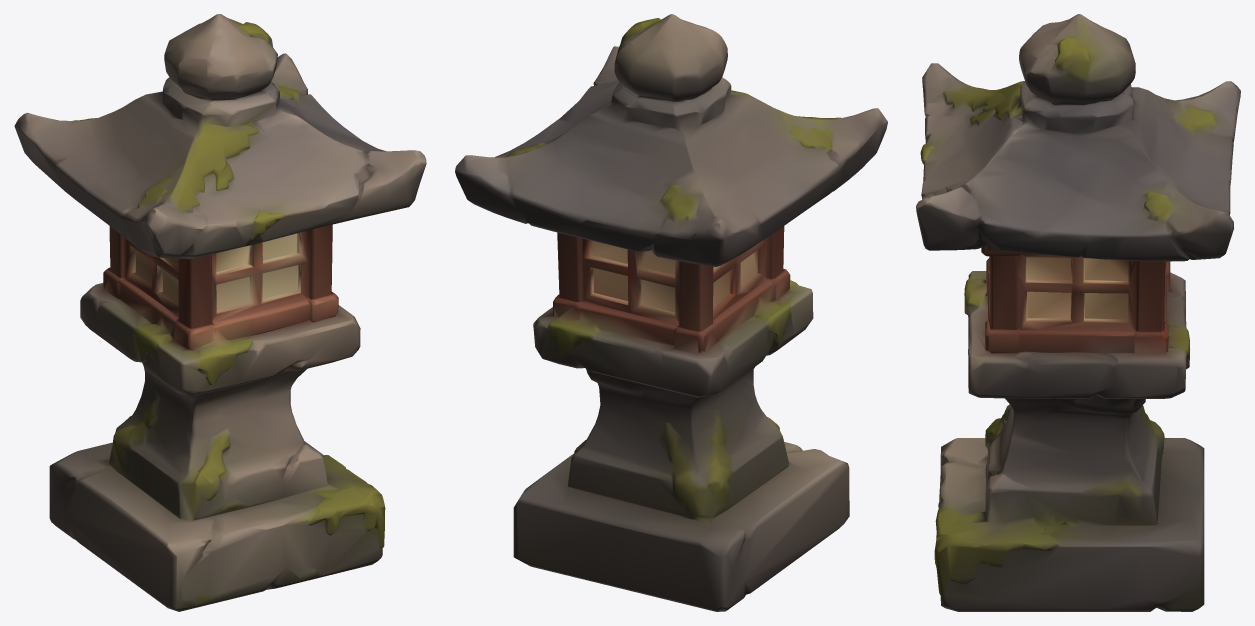
The model's file is stonelamp-DbKnCvBH.glb.
3 renders of one model, left to right at view 1: azimuth 30°, elevation 25°; view 2: azimuth 150°, elevation 25°; view 3: azimuth 270°, elevation 25°, orthographic. The views are drawn at different scales.
Visible parts, largest first — view 1: tripo_node_923d391b-9062-4add-9735-1c64ffc64891; view 2: tripo_node_923d391b-9062-4add-9735-1c64ffc64891; view 3: tripo_node_923d391b-9062-4add-9735-1c64ffc64891.
Boxes of the visible parts, x1=… form: tripo_node_923d391b-9062-4add-9735-1c64ffc64891: x1=14, y1=14, x2=426, y2=611; tripo_node_923d391b-9062-4add-9735-1c64ffc64891: x1=455, y1=14, x2=887, y2=611; tripo_node_923d391b-9062-4add-9735-1c64ffc64891: x1=916, y1=14, x2=1240, y2=611.
Size of the model in its own units: 0.5515 by 0.979 by 0.5251.
